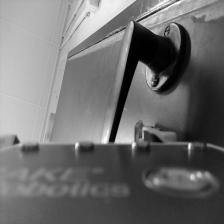Door Handle: (101, 19, 194, 143)
